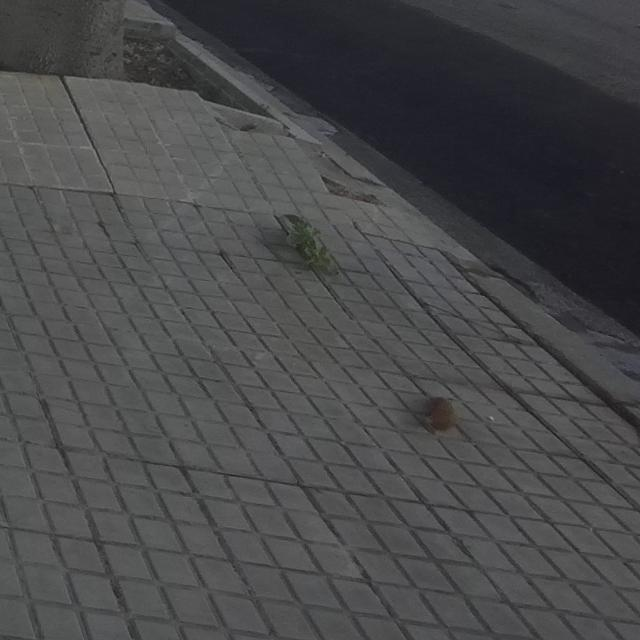calcada_quebrada: (424, 295, 532, 348)
